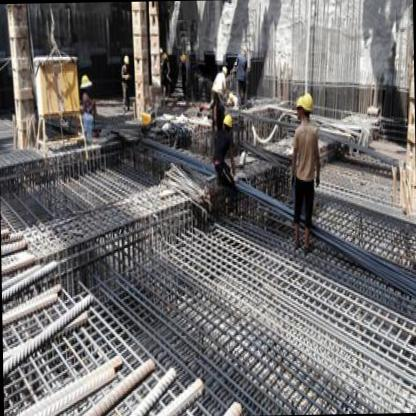helmet: (299, 90, 317, 124), (294, 93, 306, 122), (220, 110, 234, 134)
